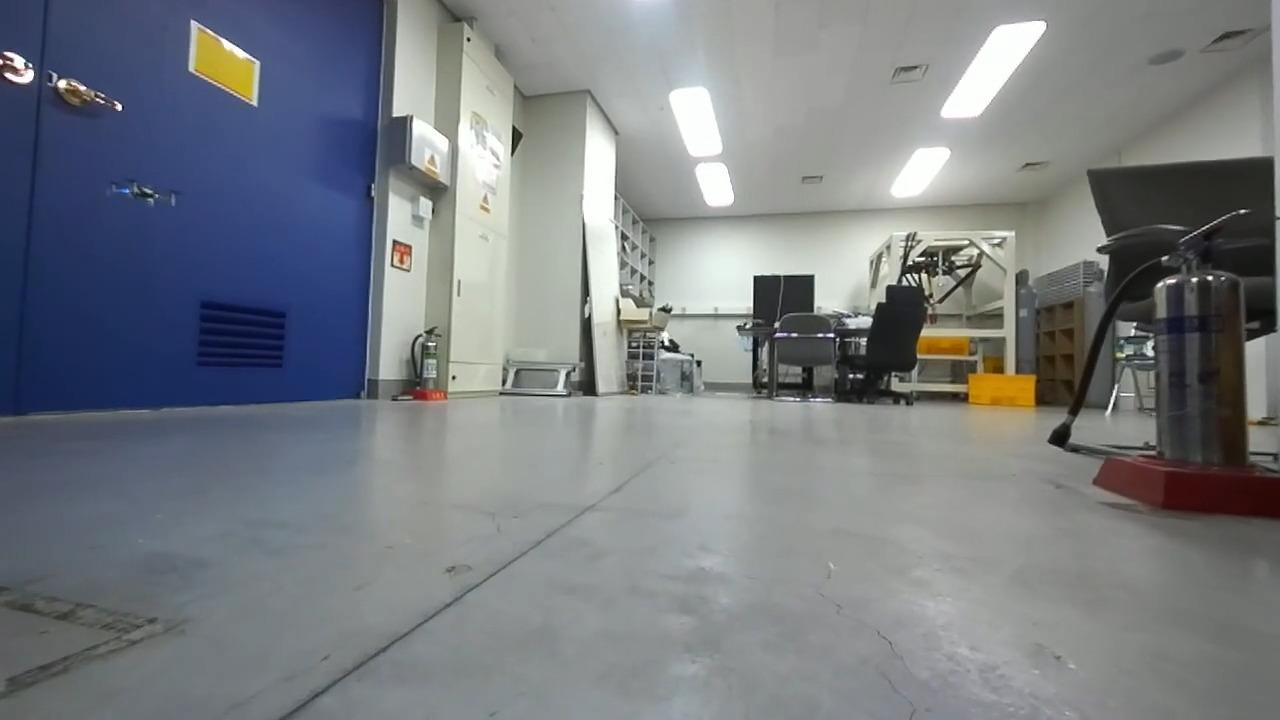crazyflie: (105, 176, 180, 212)
